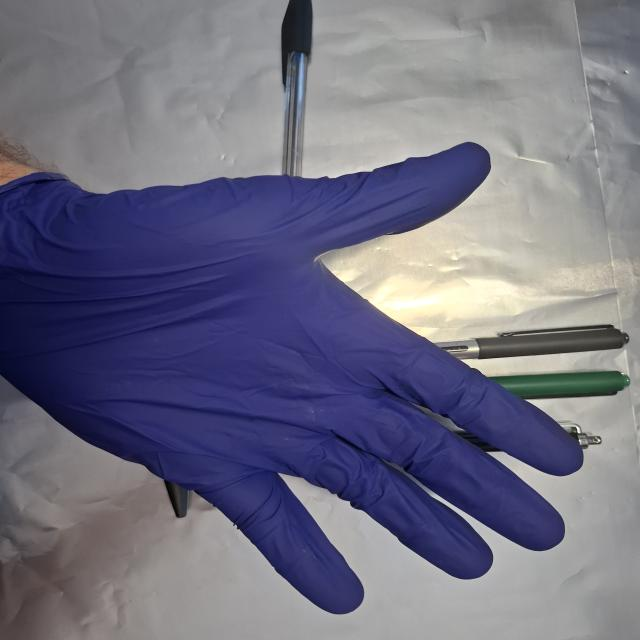glove_on: (2, 135, 591, 619)
